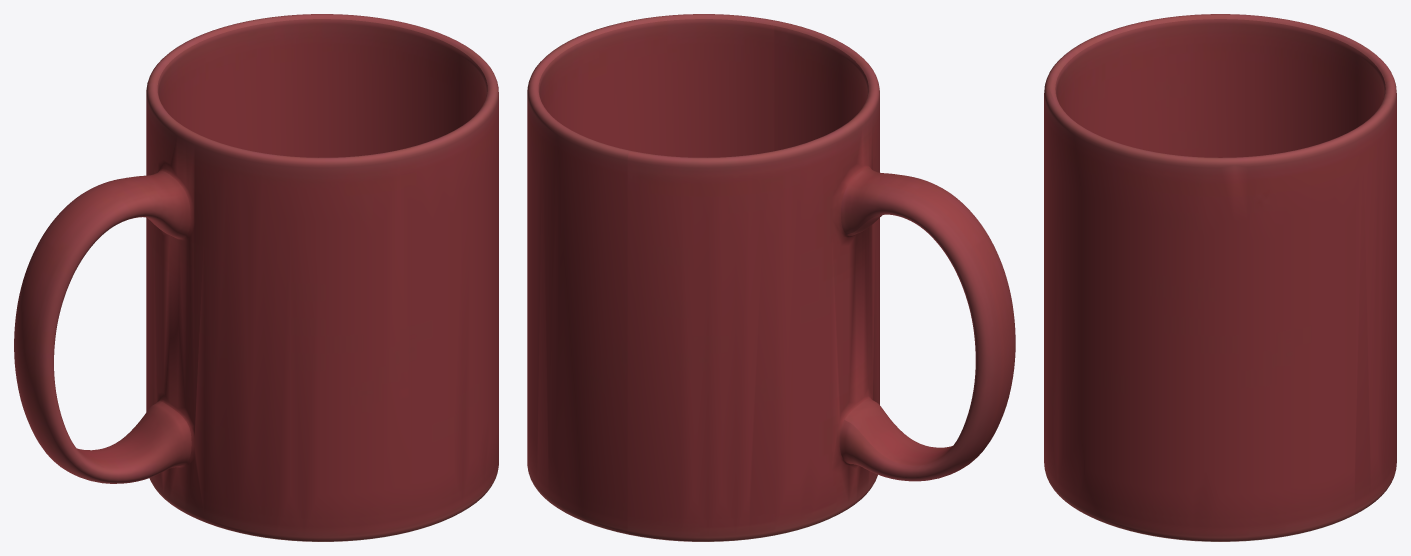
Rendered from sr_dishware_mug_coffee_a01.glb.
3 views of the same model, side by side, from view 1: azimuth 30°, elevation 25°; view 2: azimuth 150°, elevation 25°; view 3: azimuth 270°, elevation 25° (orthographic).
Visible parts, largest first — view 1: body_01_mesh_00_1; view 2: body_01_mesh_00_1; view 3: body_01_mesh_00_1.
Part boxes in pixels (left/top/right/bottom): body_01_mesh_00_1: left=14, top=14, right=498, bottom=541; body_01_mesh_00_1: left=527, top=14, right=1015, bottom=541; body_01_mesh_00_1: left=1044, top=14, right=1396, bottom=541.
Bounding box in the file's own units: 0.1208 × 0.0972 × 0.081.
Materials: 1 (1 with a texture image).
